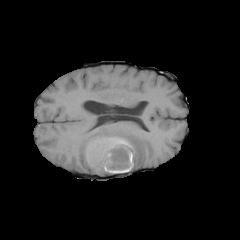glioma: (78, 123, 147, 175)
